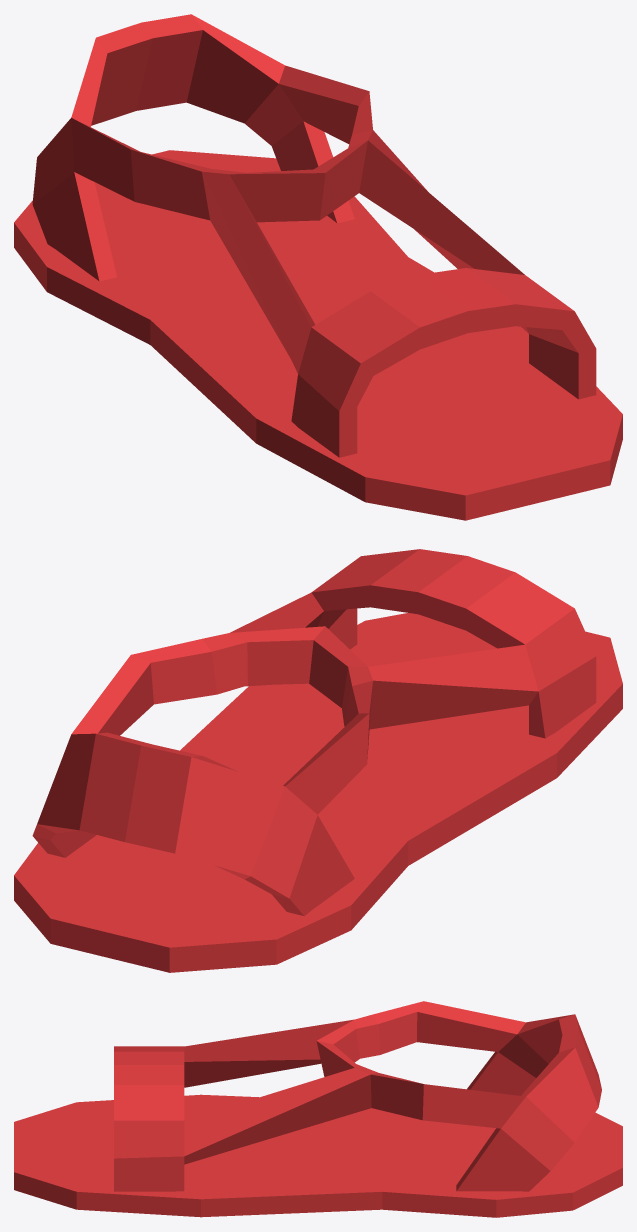
Rendered from sandal.fbx.
3 views of the same model, one above another, from view 1: azimuth 30°, elevation 25°; view 2: azimuth 150°, elevation 25°; view 3: azimuth 270°, elevation 25° (orthographic). The views are drawn at different scales.
Visible parts, largest first — view 1: Cube.001, Cube; view 2: Cube.001, Cube; view 3: Cube.001, Cube.
Boxes of the visible parts, bbox=[...] form: Cube.001: bbox=[32, 14, 596, 457]; Cube: bbox=[14, 150, 622, 520]; Cube.001: bbox=[32, 549, 596, 916]; Cube: bbox=[14, 613, 622, 972]; Cube.001: bbox=[114, 1001, 601, 1191]; Cube: bbox=[14, 1094, 622, 1217].
Size of the model in its own units: 6.99 by 4.17 by 17.03.
